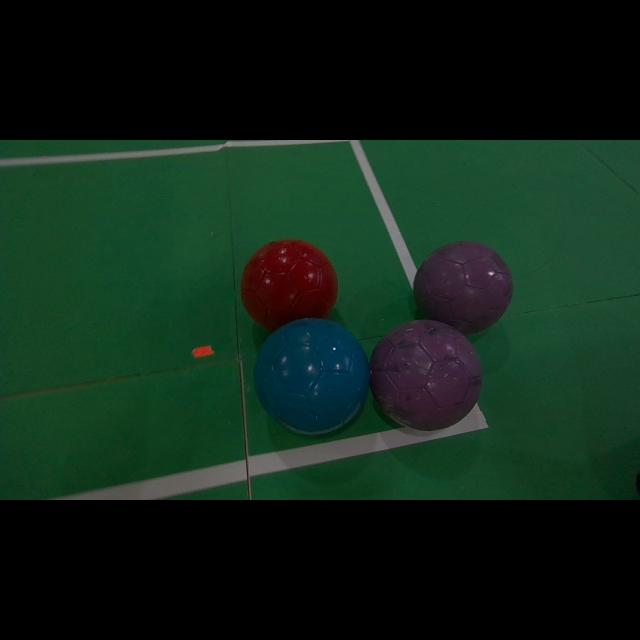B: (255, 319, 370, 434)
P: (370, 320, 482, 430), (414, 241, 512, 334)
R: (241, 239, 338, 331)
